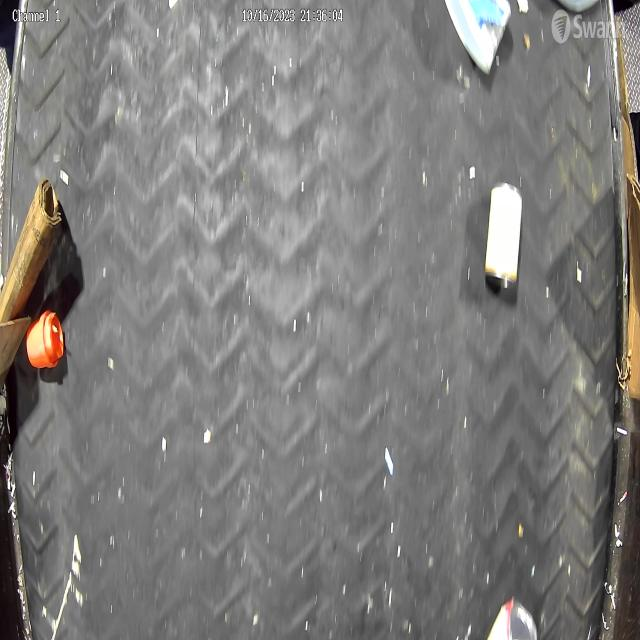can: (484, 178, 524, 287)
